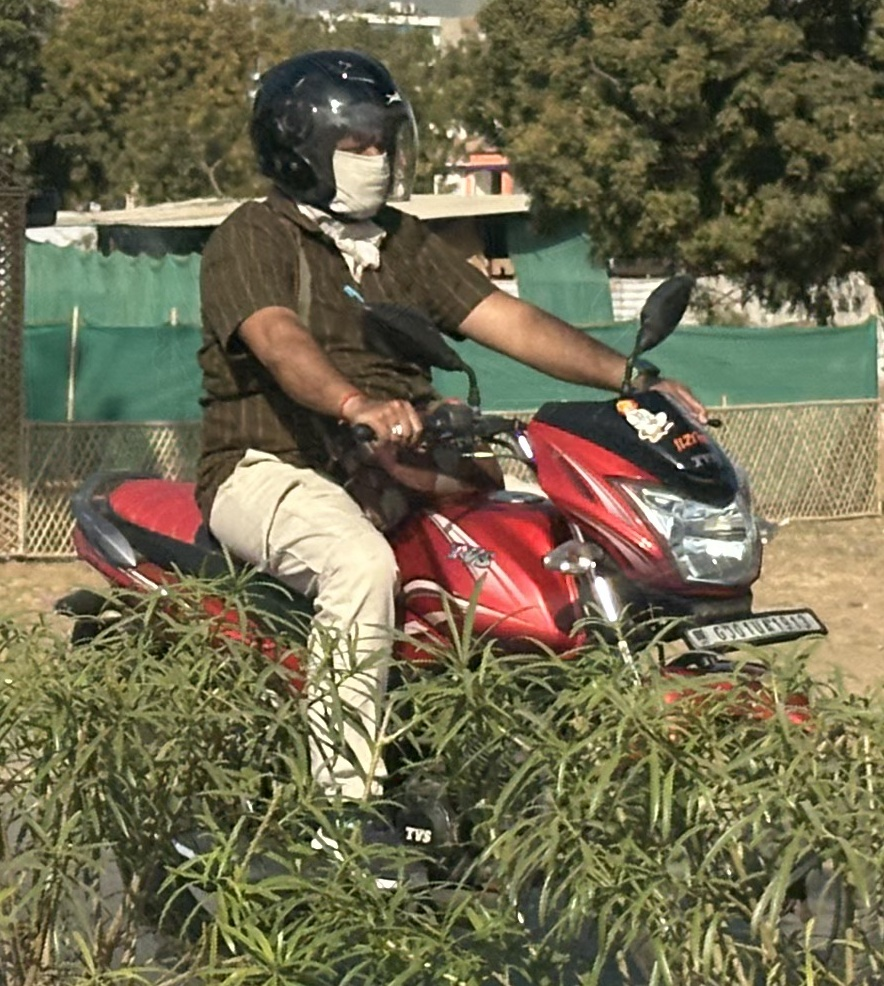BikeWithRider: (39, 33, 843, 975)
Helmet: (232, 38, 433, 229)
